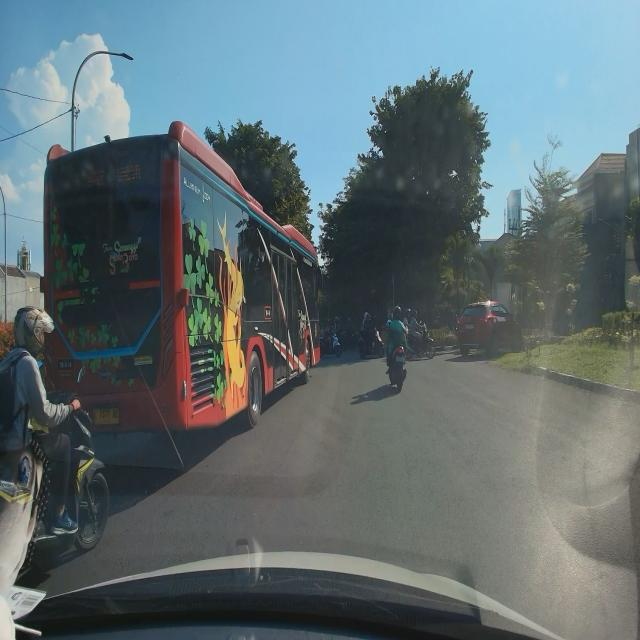bus: (42, 118, 321, 435)
car: (457, 300, 522, 356)
license-plate: (93, 408, 119, 426), (466, 323, 474, 330)
